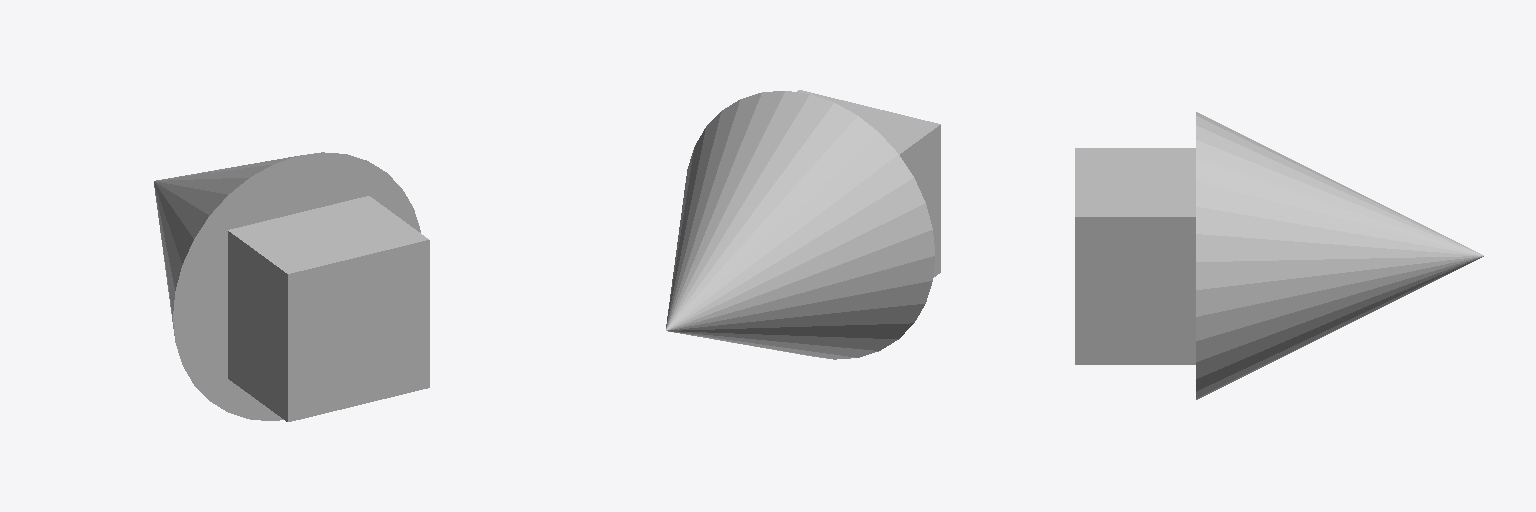
File: testbuilding3.obj
3 views of the same model, side by side, from view 1: azimuth 30°, elevation 25°; view 2: azimuth 150°, elevation 25°; view 3: azimuth 270°, elevation 25° (orthographic).
Visible parts, largest first — view 1: Cone; view 2: Cone; view 3: Cone.
Boxes of the visible parts, box(x1,y1,x2,y2) form: Cone: box(154, 152, 429, 421); Cone: box(666, 90, 940, 359); Cone: box(1075, 112, 1483, 399).
Bounding box in the file's own units: 7.38 × 7.38 × 10.46.